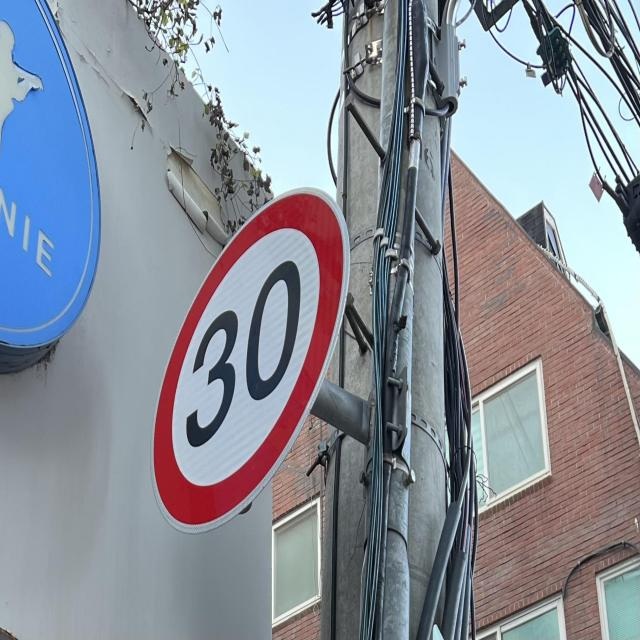speed_limit_30: (150, 193, 348, 525)
